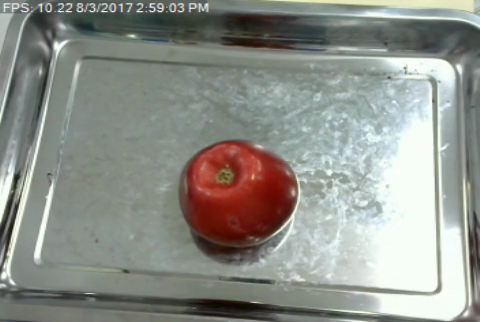Apple: (173, 138, 308, 249)
